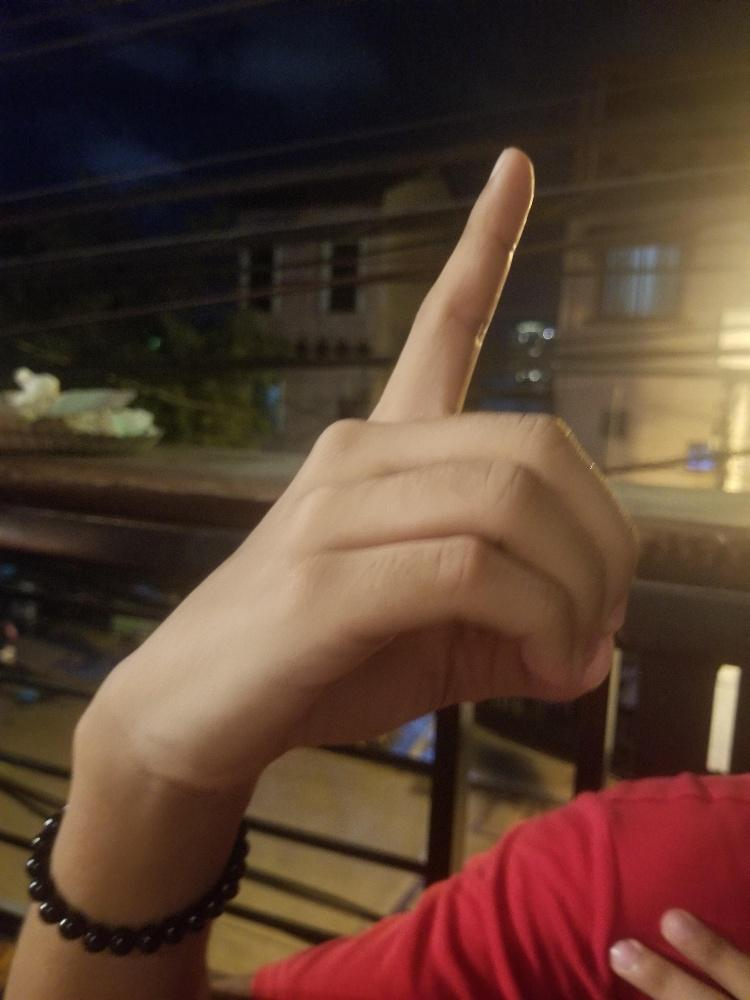d: (214, 143, 642, 752)
